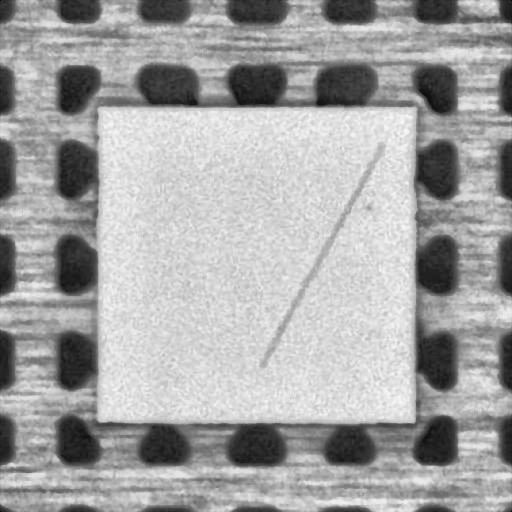DIE_CRACK: (259, 144, 381, 366)
